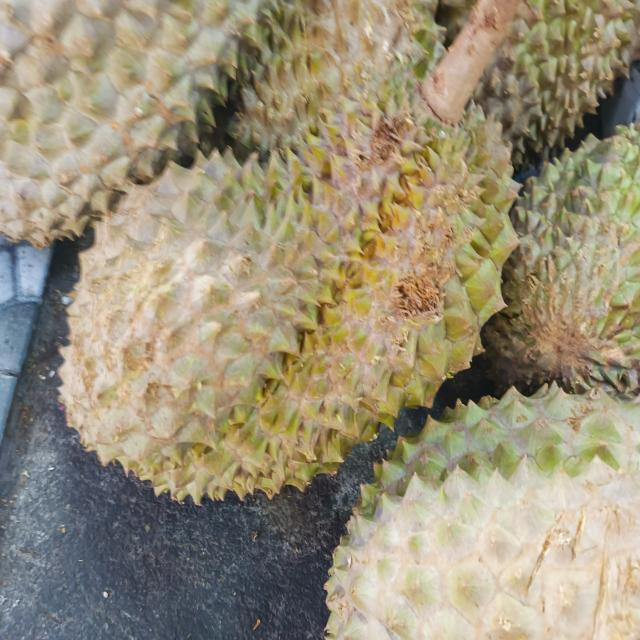mature: (50, 0, 526, 543), (312, 374, 640, 639), (0, 0, 258, 244), (485, 126, 640, 393)
